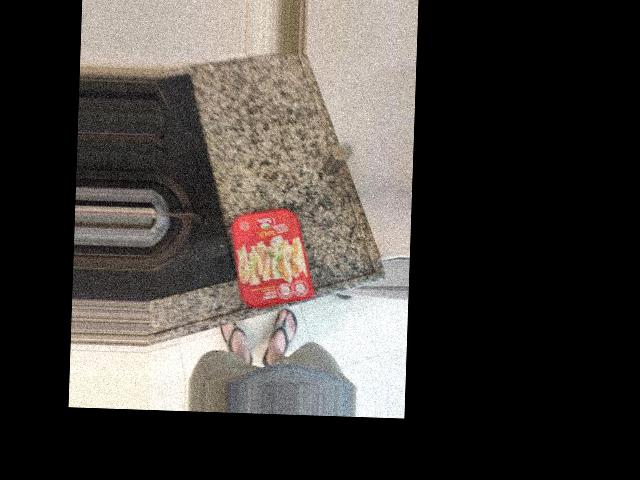cheese: (231, 113, 321, 226)
